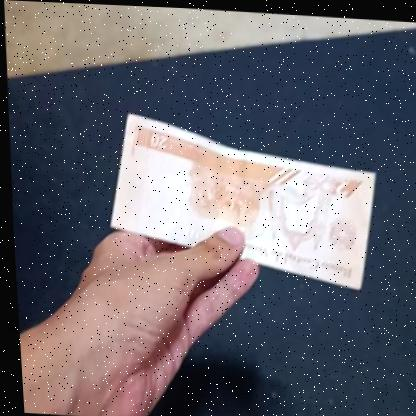twenty-back-vef: (101, 108, 380, 289)
